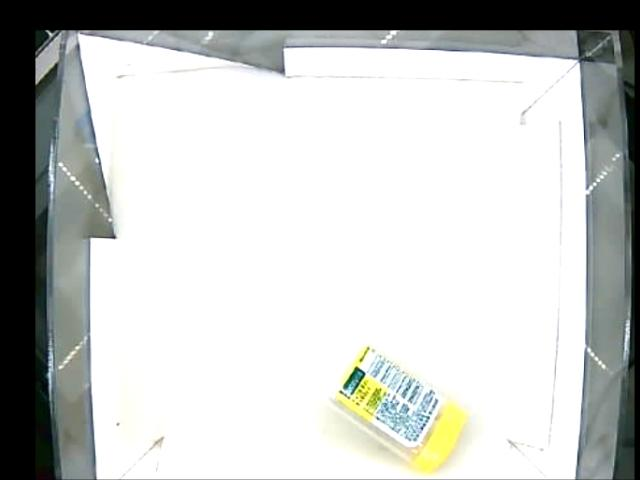Bottle: (324, 338, 466, 479)
